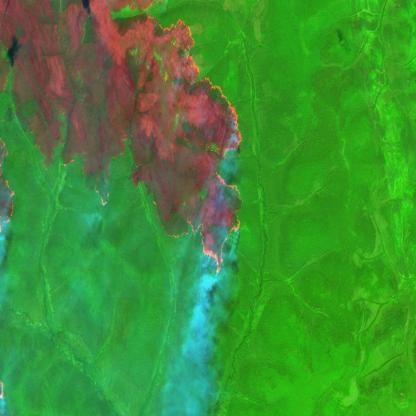fire: (0, 0, 243, 274), (0, 372, 8, 402)
